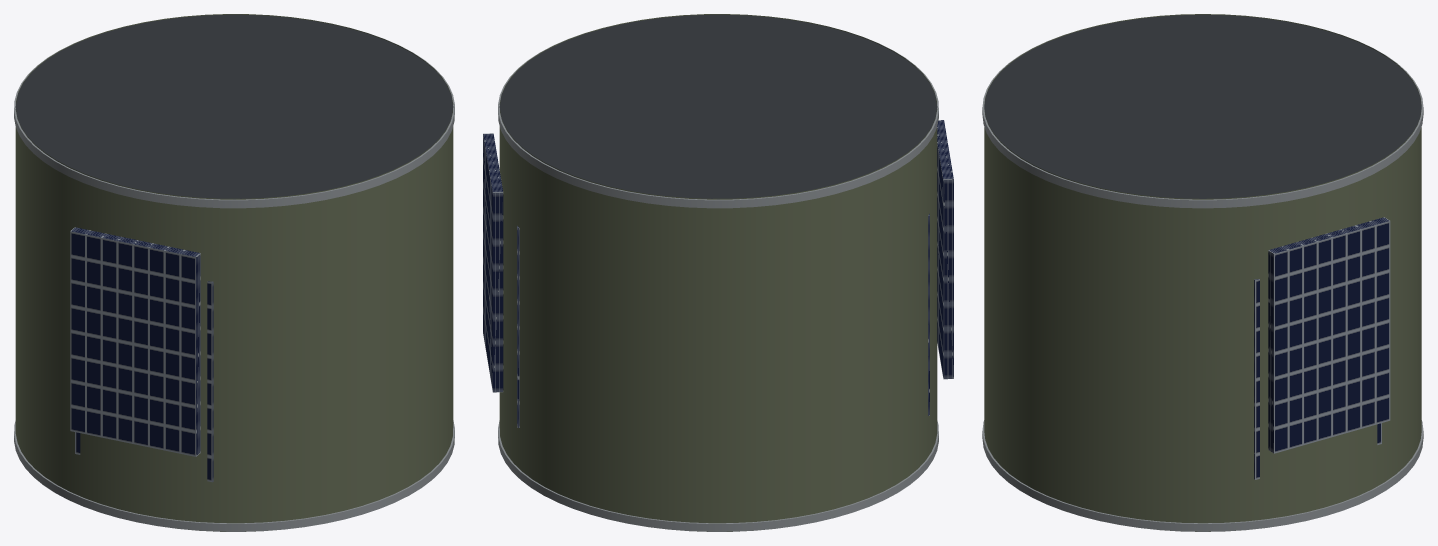
Rendered from soyuz_7k_service_module.glb.
The picture shows the model from 3 angles, left to right: view 1: azimuth 30°, elevation 25°; view 2: azimuth 150°, elevation 25°; view 3: azimuth 270°, elevation 25°; orthographic projection.
Visible parts, largest first — view 1: body, slot_power; view 2: body, slot_power; view 3: body, slot_power.
Boxes of the visible parts, box(x1,y1,x2,y2) form: body: box(14, 14, 454, 531); slot_power: box(75, 281, 213, 482); body: box(483, 14, 953, 531); slot_power: box(517, 214, 929, 427); body: box(982, 14, 1423, 531); slot_power: box(1254, 279, 1381, 479).
Size of the model in its own units: 2.64 by 2.11 by 2.52.
10 materials, 1 textured.
